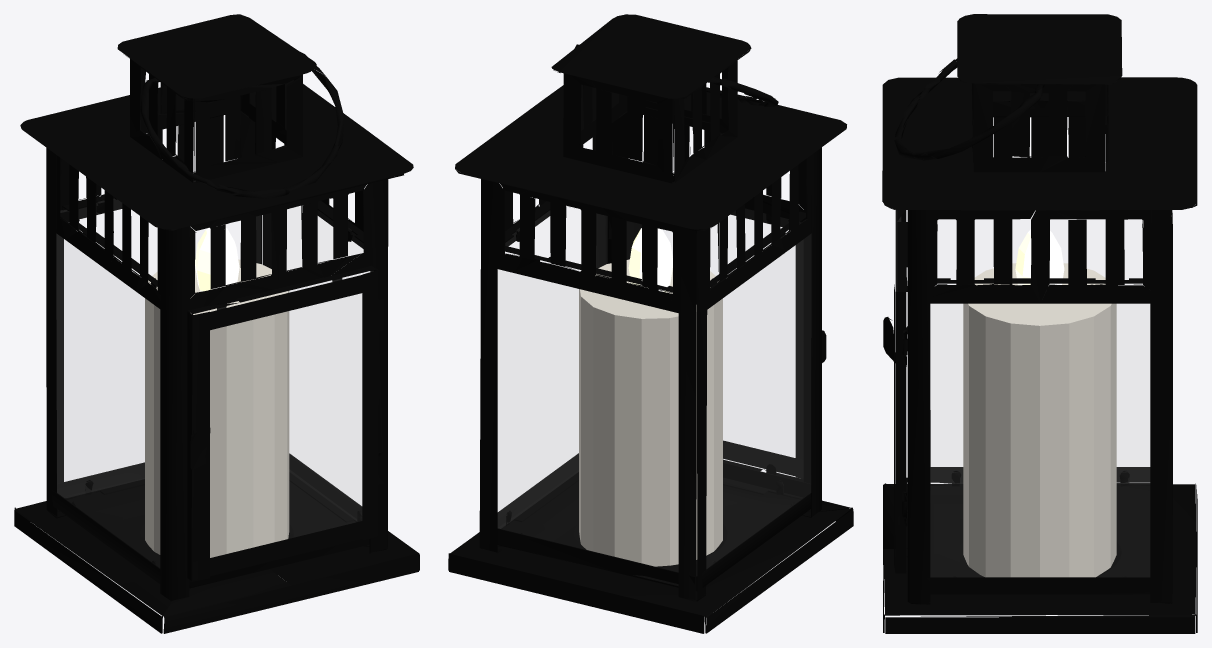
3 renders of one model, left to right at view 1: azimuth 30°, elevation 25°; view 2: azimuth 150°, elevation 25°; view 3: azimuth 270°, elevation 25°, orthographic. The views are drawn at different scales.
Parts seen in each view (by area): view 1: borrby-28, candle, flame; view 2: borrby-28, candle, flame; view 3: borrby-28, candle, flame.
Boxes of the visible parts, <box> form: borrby-28: <box>14,14,419,633</box>; candle: <box>145,259,289,557</box>; flame: <box>195,227,239,291</box>; borrby-28: <box>448,14,853,633</box>; candle: <box>579,259,722,566</box>; flame: <box>628,228,672,292</box>; borrby-28: <box>882,14,1197,633</box>; candle: <box>963,263,1116,577</box>; flame: <box>1015,229,1064,285</box>.
Bounding box in the file's own units: 0.152 × 0.2772 × 0.1523.
Materials: 4 (1 with a texture image).
